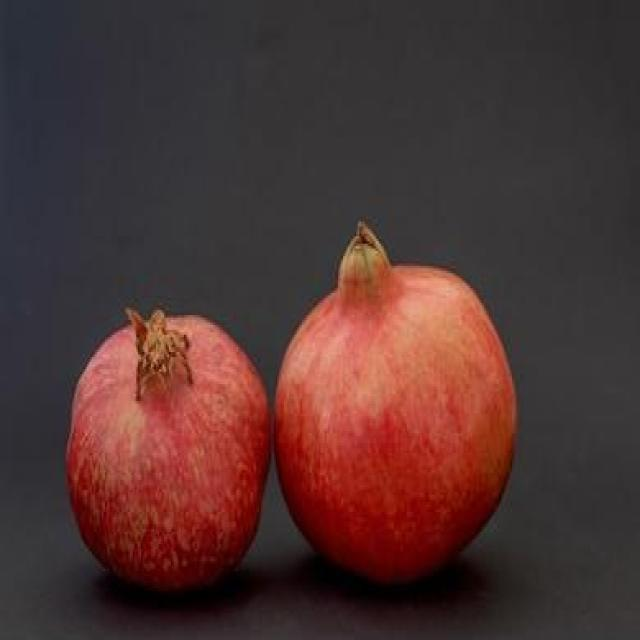Pomegranate: (277, 220, 520, 583), (63, 303, 277, 595)
